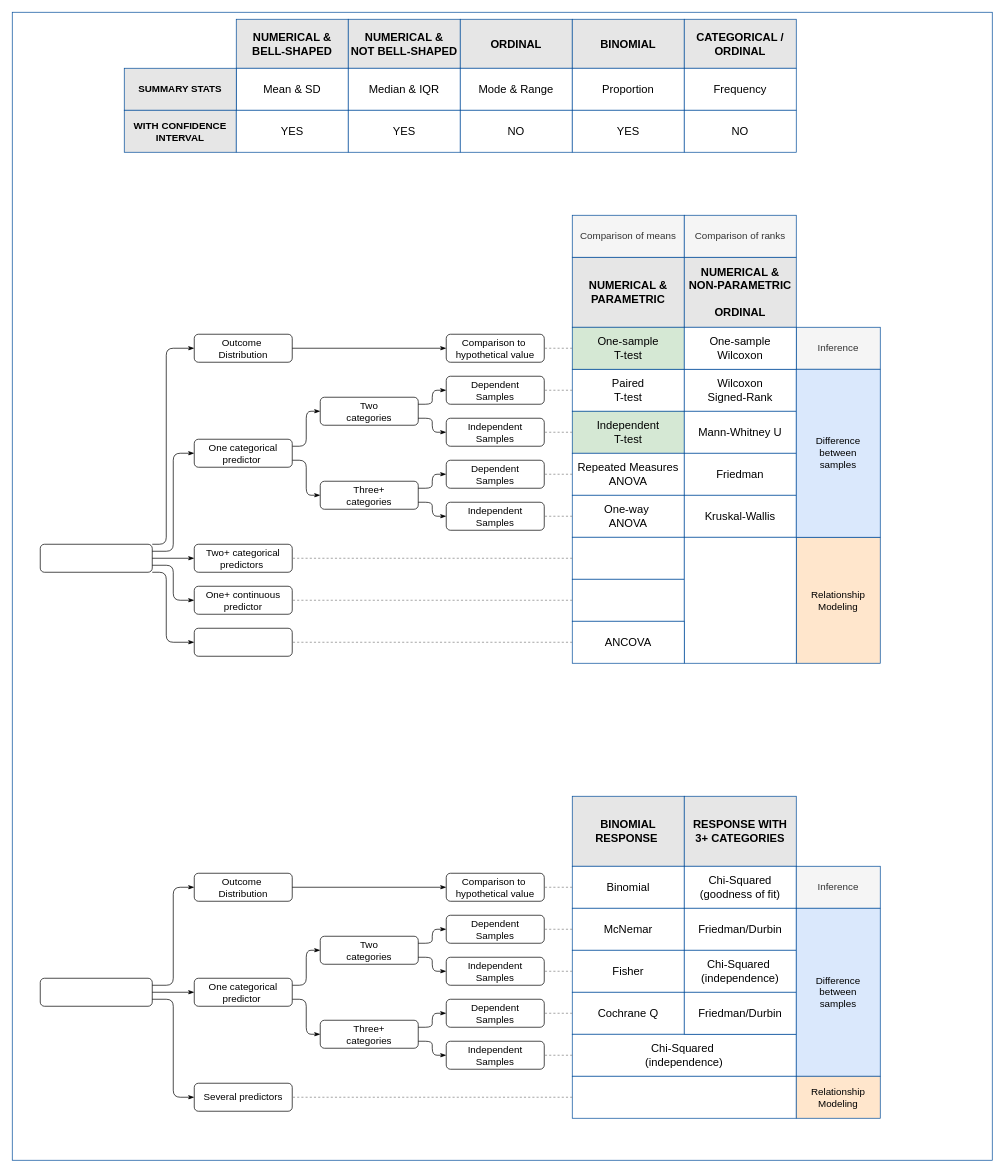
Image size: 1005x1173. Some labels were removed from this diagram. The centre of each missing label's shape, as x and y in pixels:
"Factorial ANOVA*" belongs at (628,558).
"Linear / Multiple Regression (Pearson's r)" belongs at (628,600).
"Logistic Regression" belongs at (684,1097).
"Non-Parametric Regression (Spearman's r or Kendall's Tau)" belongs at (740,600).
"Response is nominal" belongs at (96,992).
"Response is numerical / ordinal" belongs at (96,558).
"Several mixed predictors" belongs at (243,642).
